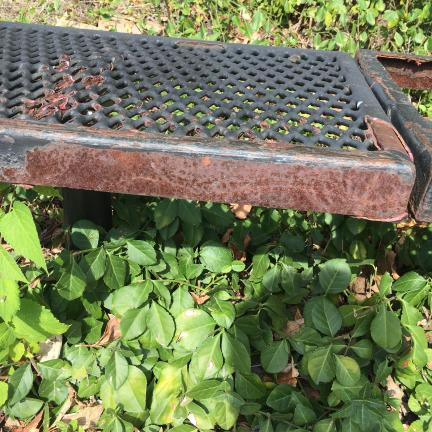karat: (1, 129, 416, 222), (0, 115, 415, 167)
